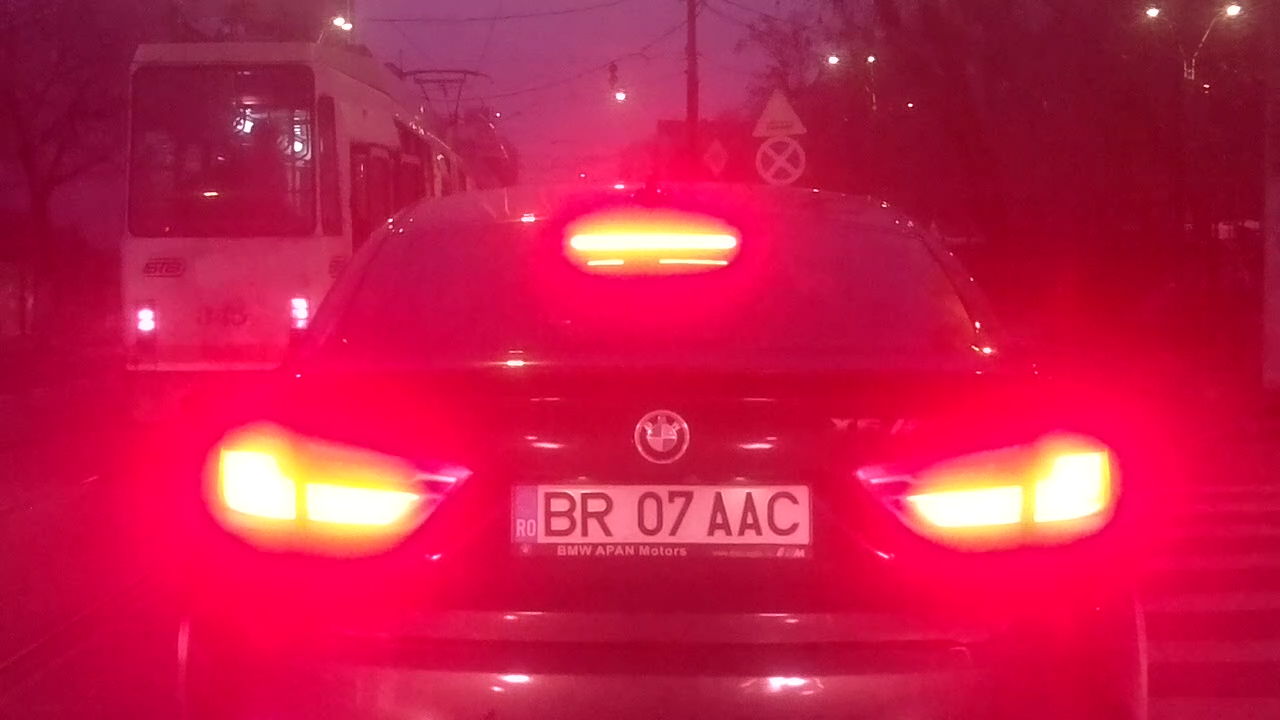license-plate: (504, 476, 823, 554)
